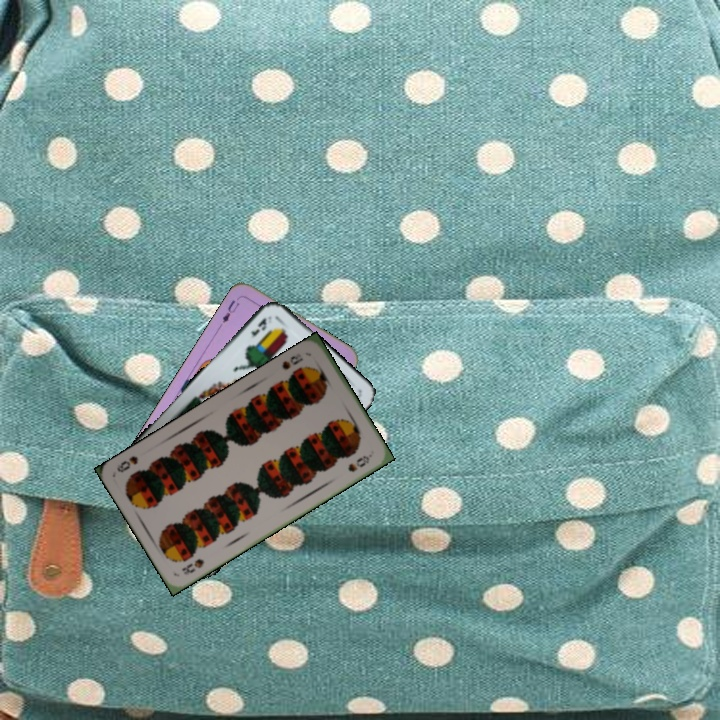EK: (247, 312, 275, 339)
EU: (218, 296, 242, 326)
S8: (178, 554, 207, 578), (278, 351, 306, 372)
